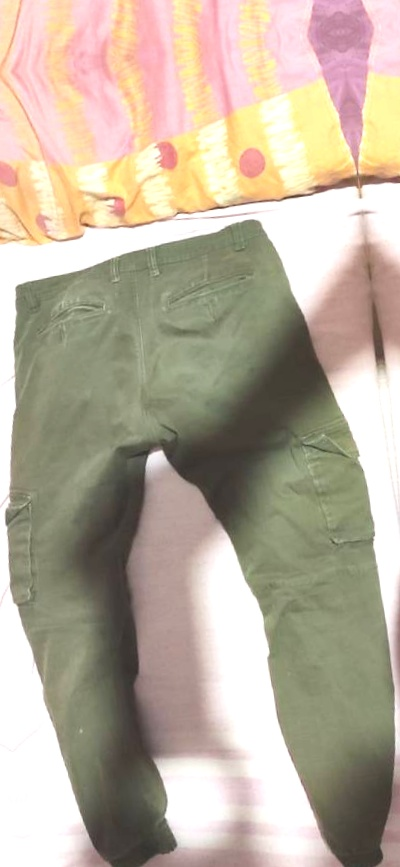Pants: (0, 177, 400, 867), (368, 126, 400, 867), (0, 225, 33, 867)
